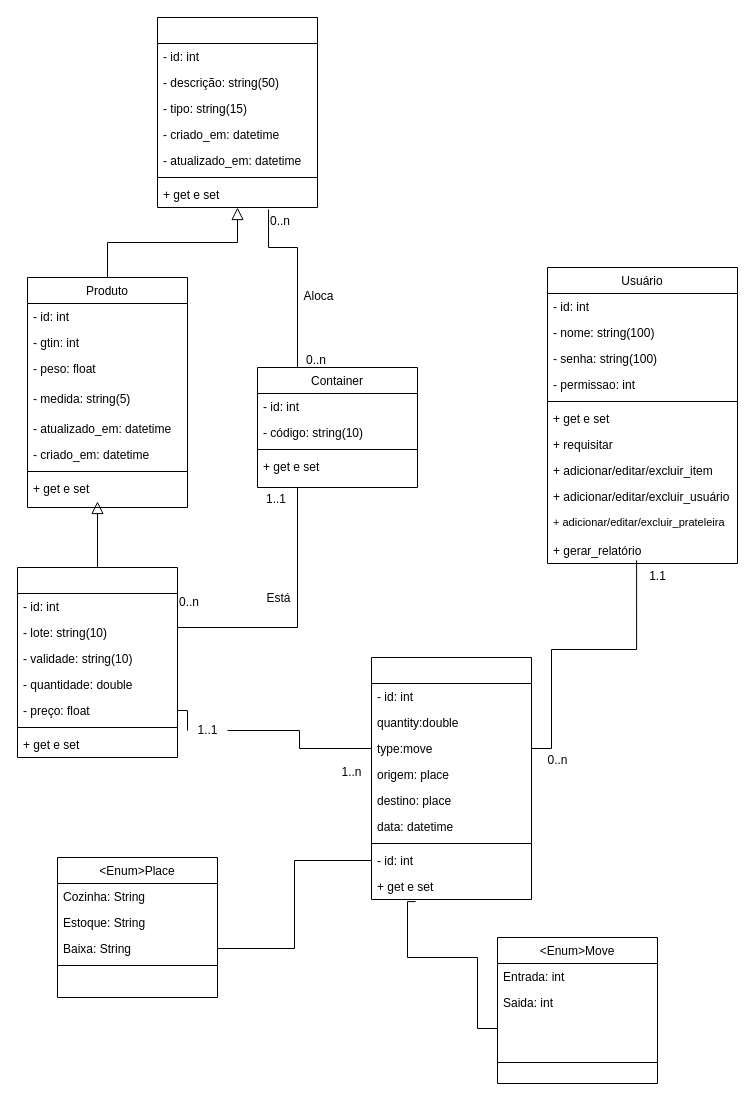
Image size: 755x1101. Some labels were removed from this diagram. The shapes that lost their labels are listed below. From the top down, each one's box as (x1, y1, x2, y2) in pixels, then its label:
(156, 16, 318, 208): Categoria
(16, 566, 178, 758): Unidade
(370, 656, 532, 900): Movimentos
